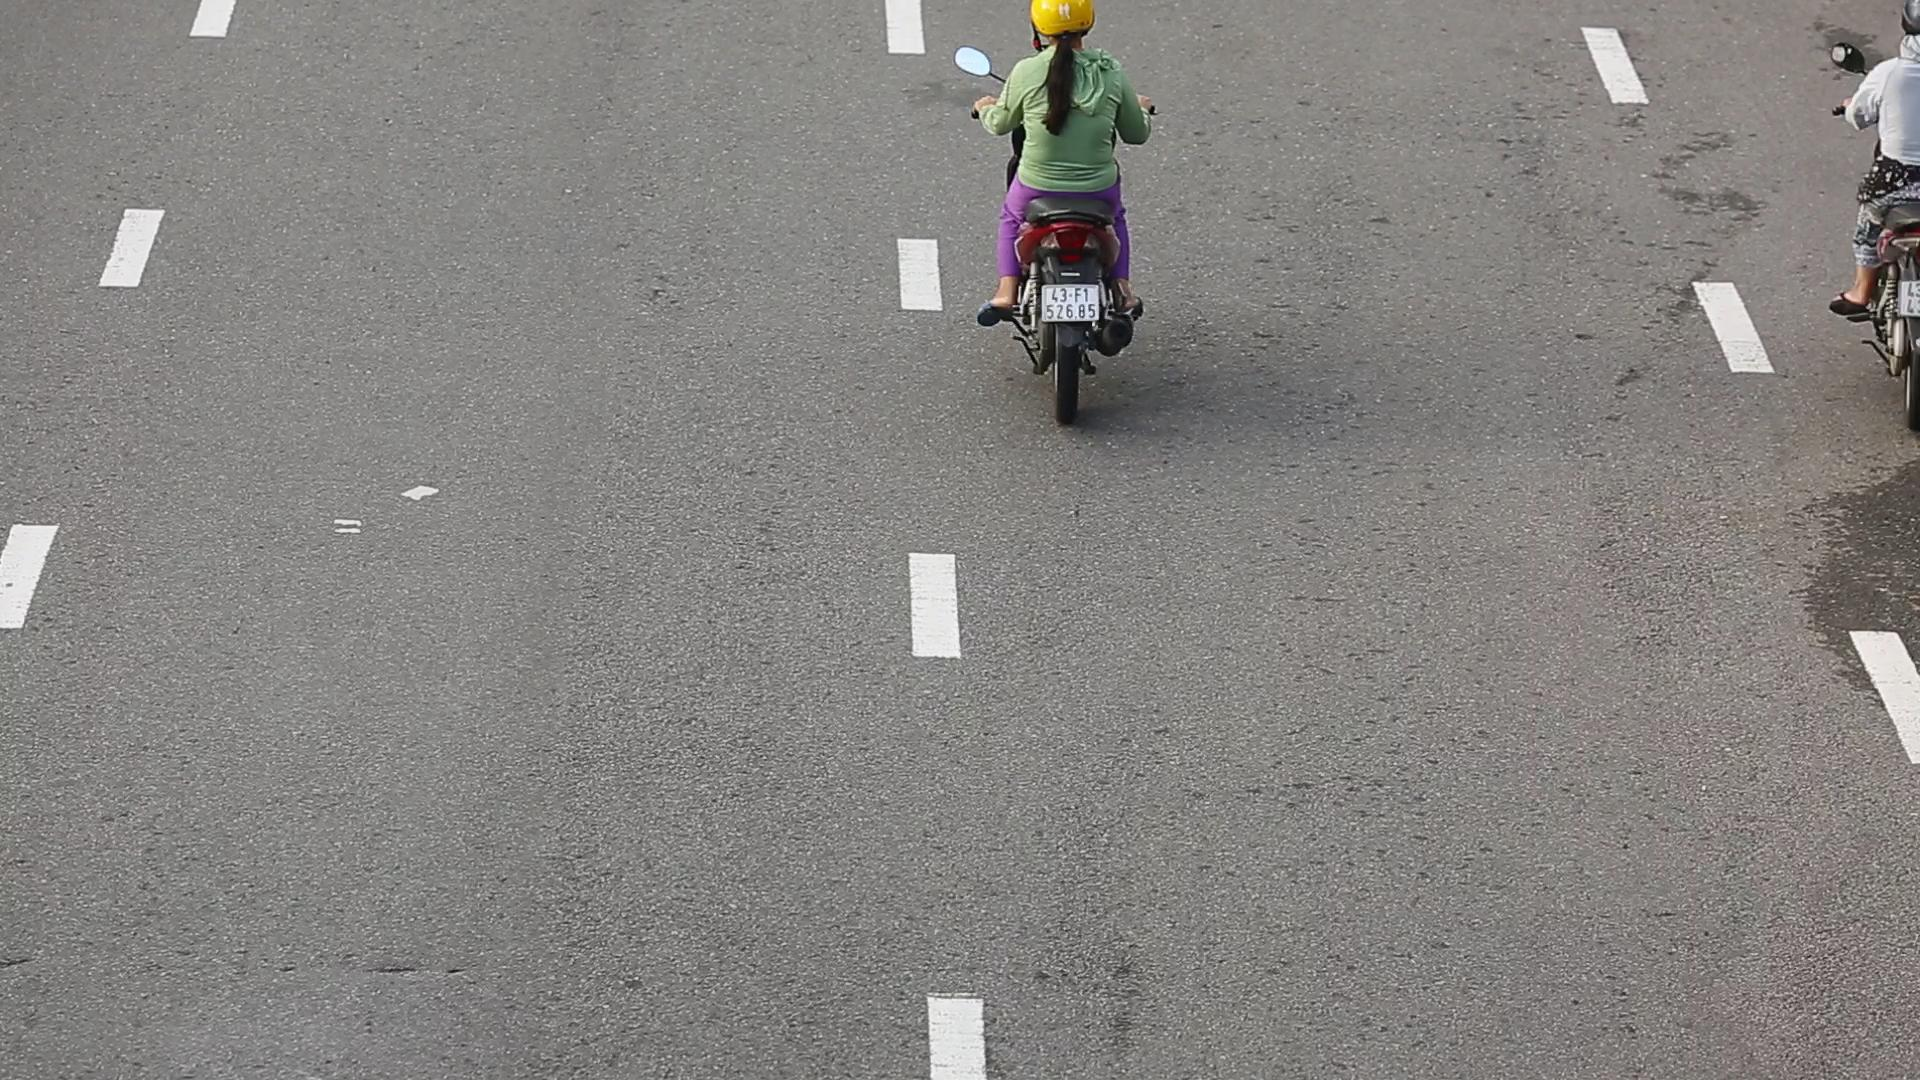motobike: (960, 0, 1154, 429)
